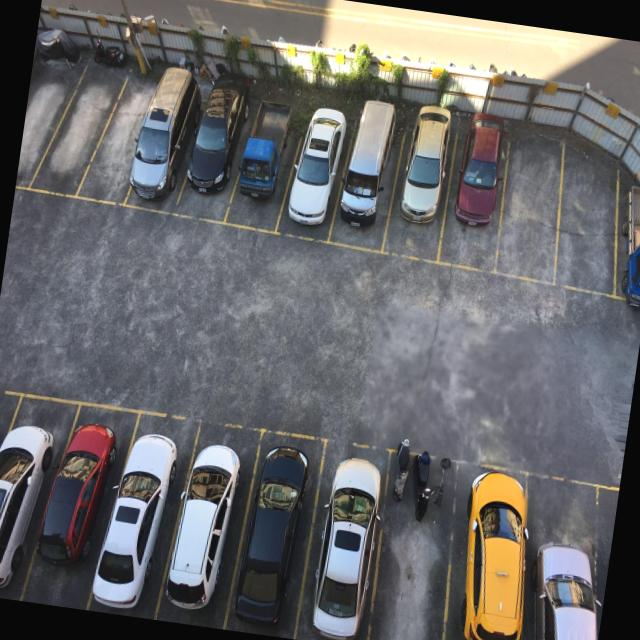car: (160, 420, 263, 632), (28, 394, 126, 612), (93, 400, 188, 620), (224, 433, 324, 640), (298, 440, 398, 640), (440, 463, 547, 640), (507, 478, 615, 640), (0, 382, 62, 602), (440, 123, 518, 276), (386, 106, 462, 263), (332, 110, 404, 254), (180, 88, 252, 226), (282, 103, 354, 240), (228, 100, 298, 236), (128, 96, 198, 210), (608, 180, 640, 307)
free: (364, 447, 473, 640), (544, 144, 632, 300), (488, 132, 570, 286), (34, 46, 112, 205), (16, 34, 82, 195), (78, 80, 151, 210)
